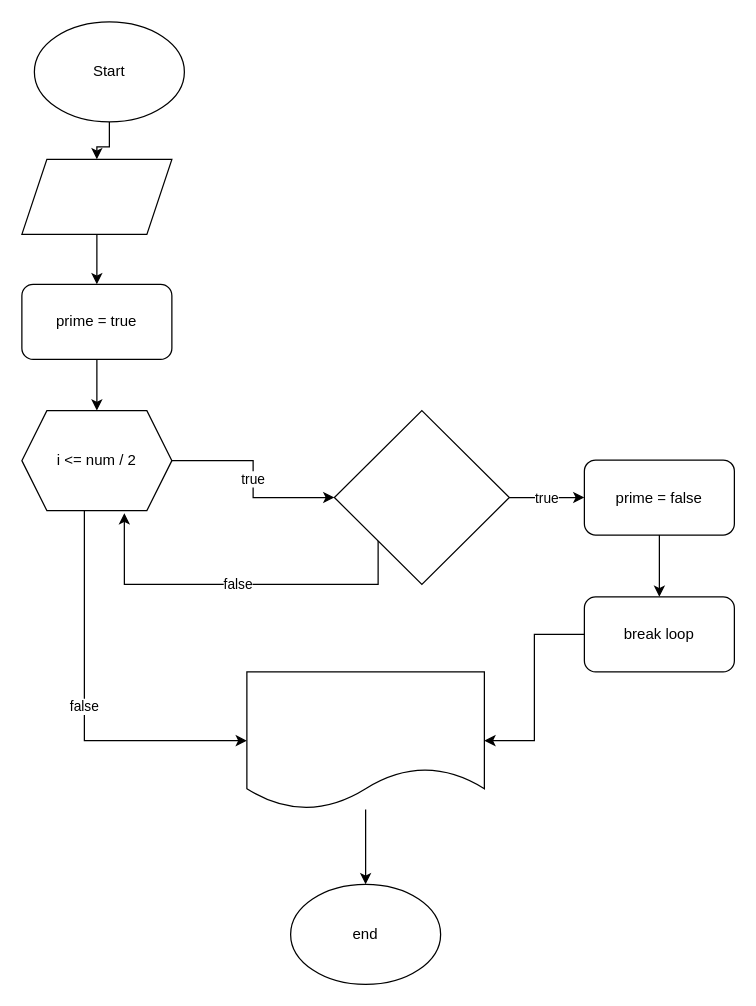
Image size: 756x1006. Some labels were removed from this diagram. The box of each missing label's shape, as (x1, y1, x2, y2) in pixels:
enter num: (21, 158, 172, 234)
Information that this number is prime number: " + prime: (246, 671, 484, 809)
num % i = 0: (333, 409, 509, 584)
